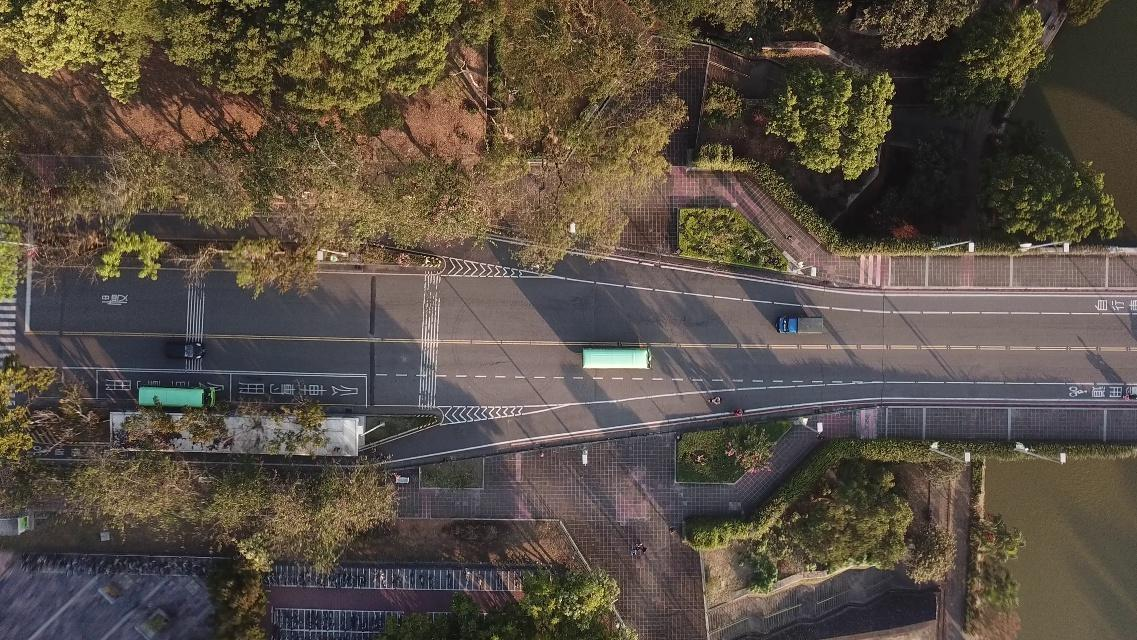Bus: (137, 385, 213, 407), (582, 347, 650, 369)
Car: (164, 339, 208, 363)
